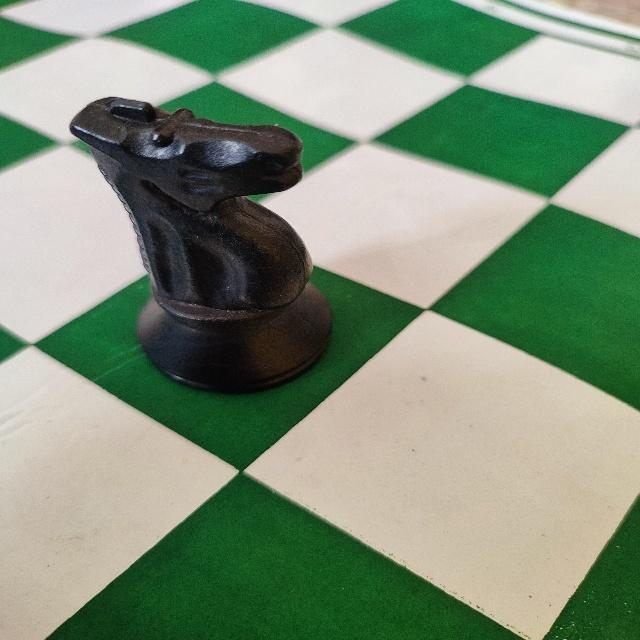Knight: (61, 90, 336, 396)
